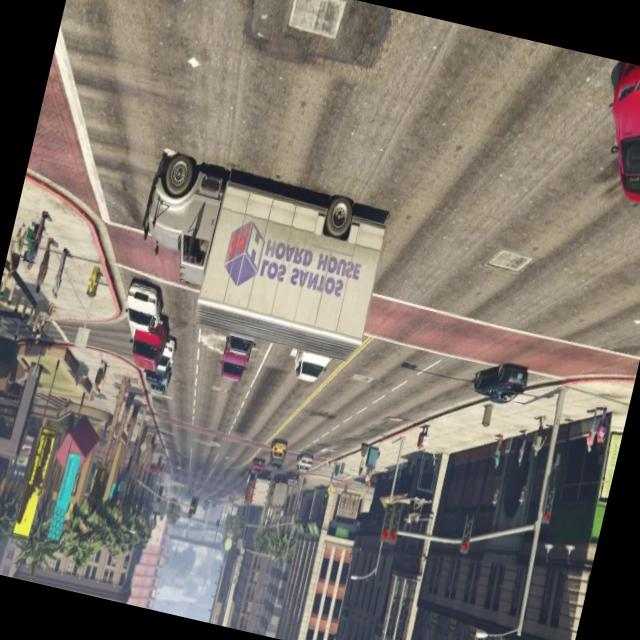Red-Signal: (374, 491, 408, 553), (452, 507, 480, 561), (537, 478, 561, 530)
